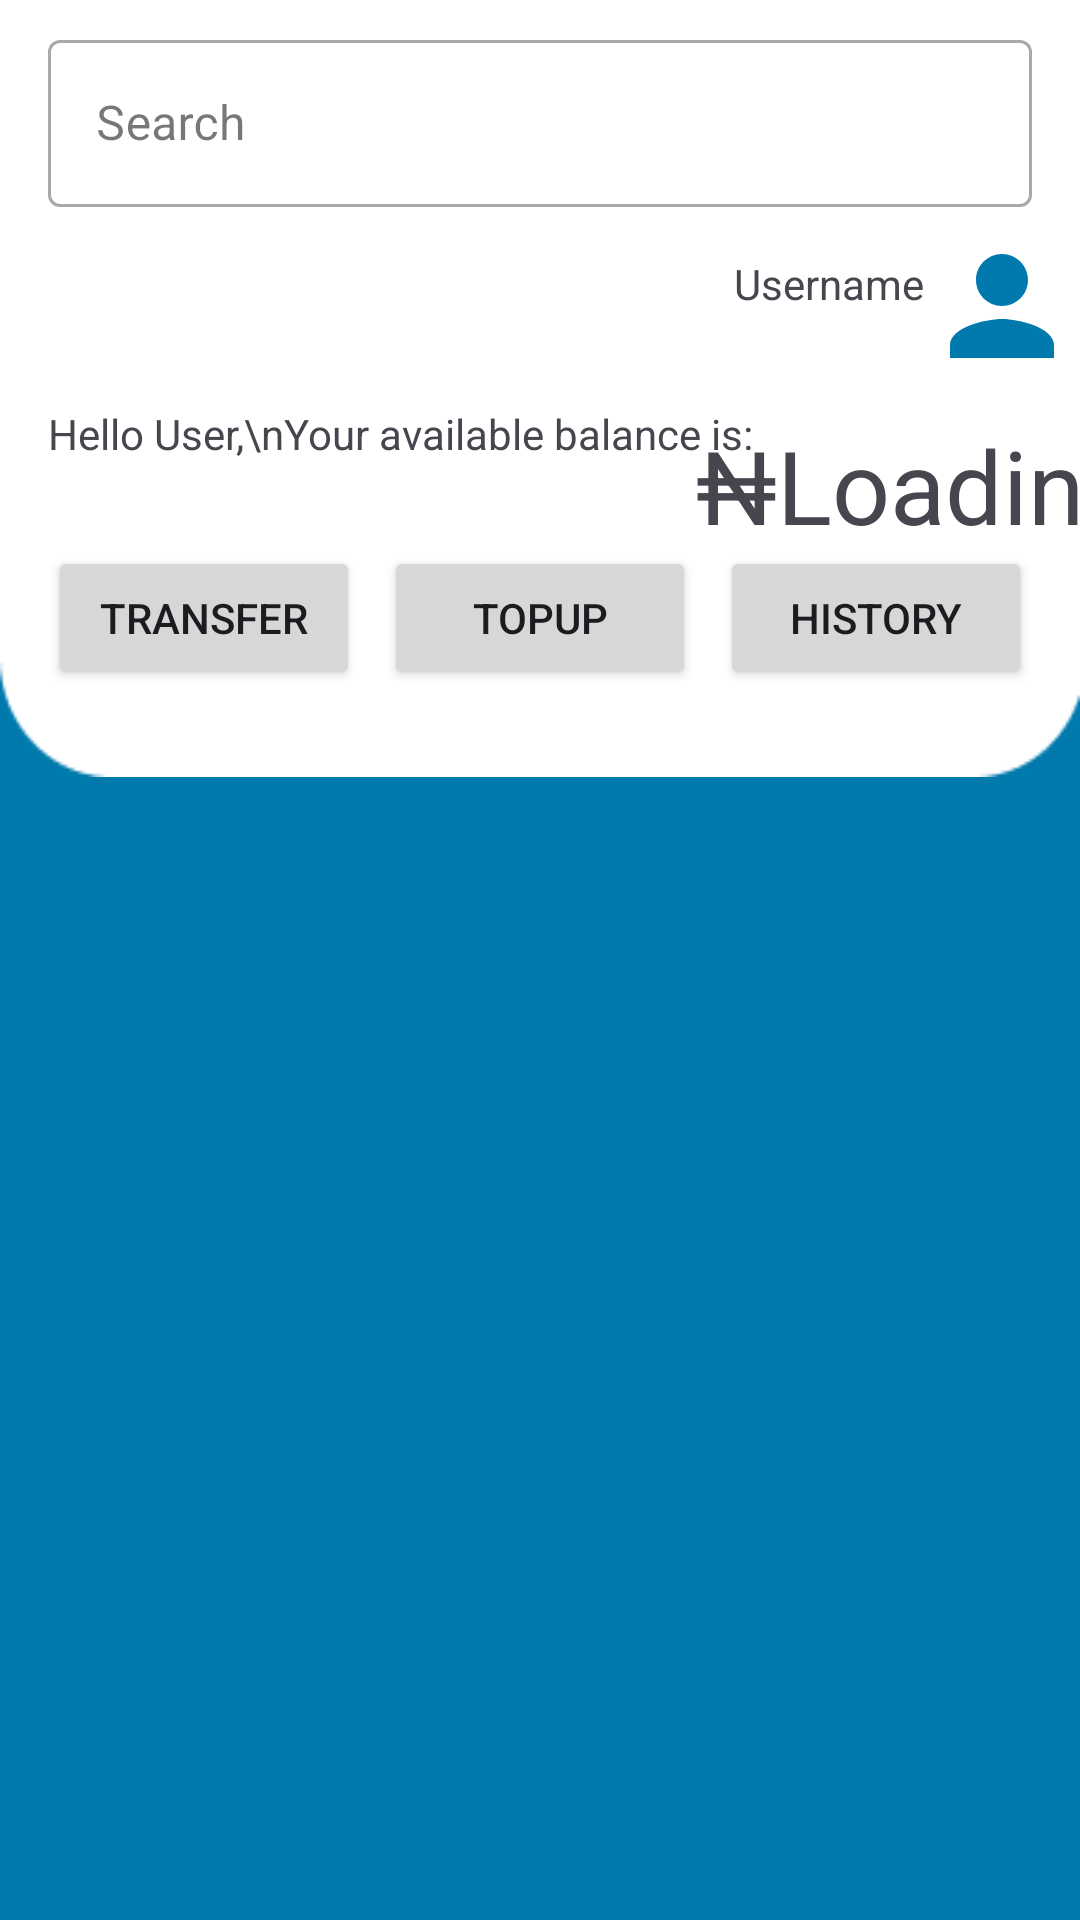

Named icons in this screenshot (1080x1920) and their bounding boxes, [x1,y1,x2,y2]:
person: [950,254,1054,358]
